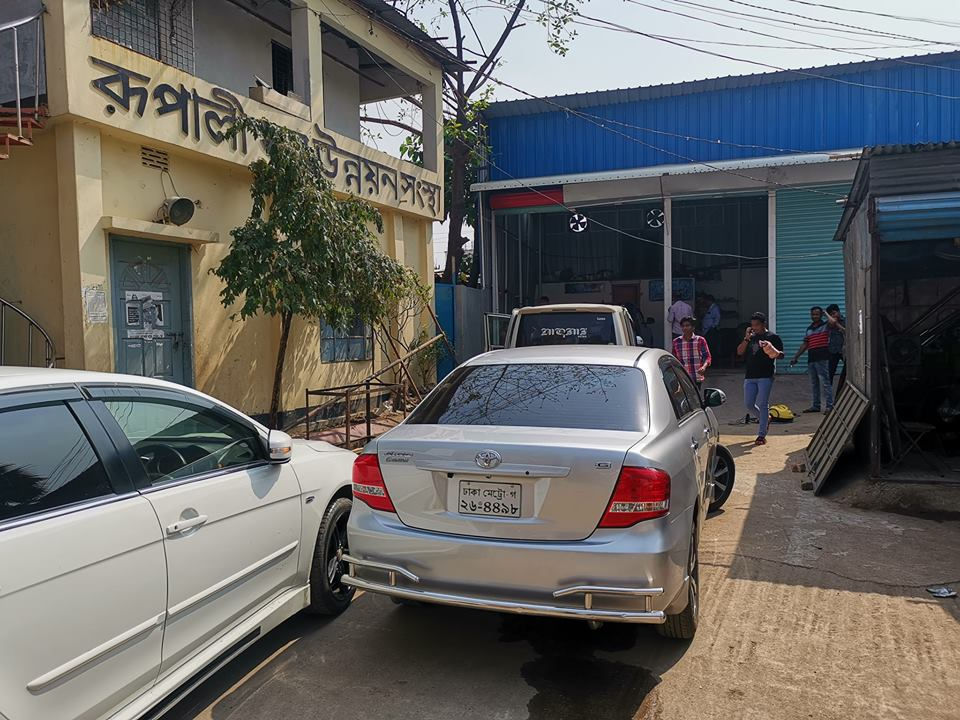registration_plate: (458, 479, 522, 517)
